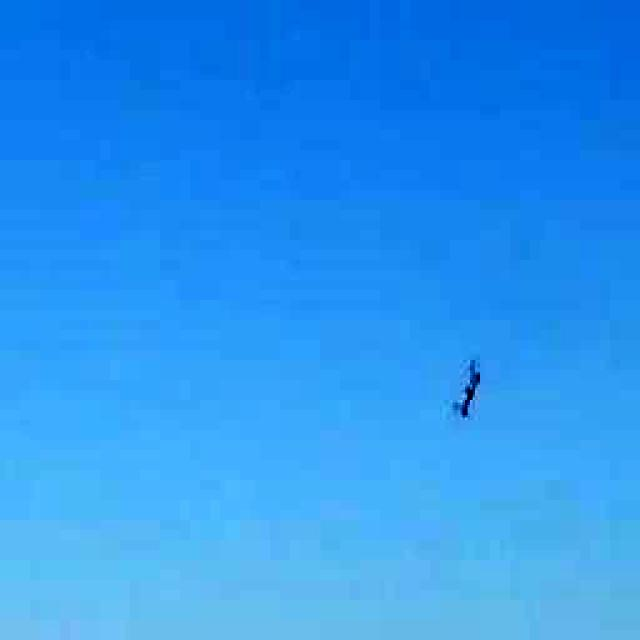bird: (428, 354, 505, 429)
